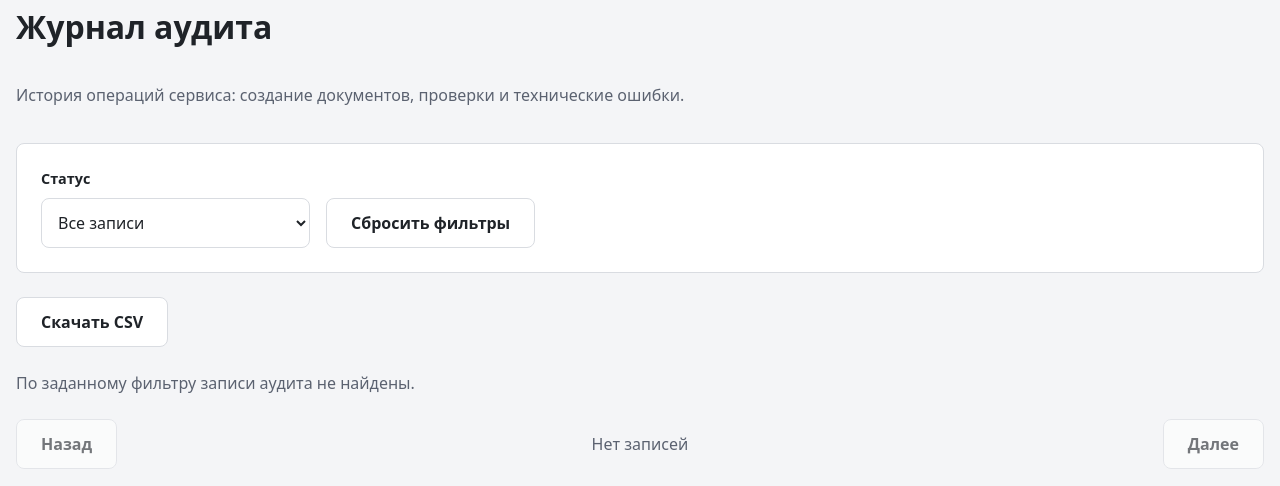
Scenario: AuditJournalPage — экспорт CSV › двойной клик не запускает два экспорт-запроса
Check: the text "По заданному фильтру записи аудита не найдены." is shown, box [16,372,415,394]
What coordinates should you click on to do the following:
click the button "Скачать CSV"
I would click on:
 (92, 322)
Its box is [16,297,168,347].
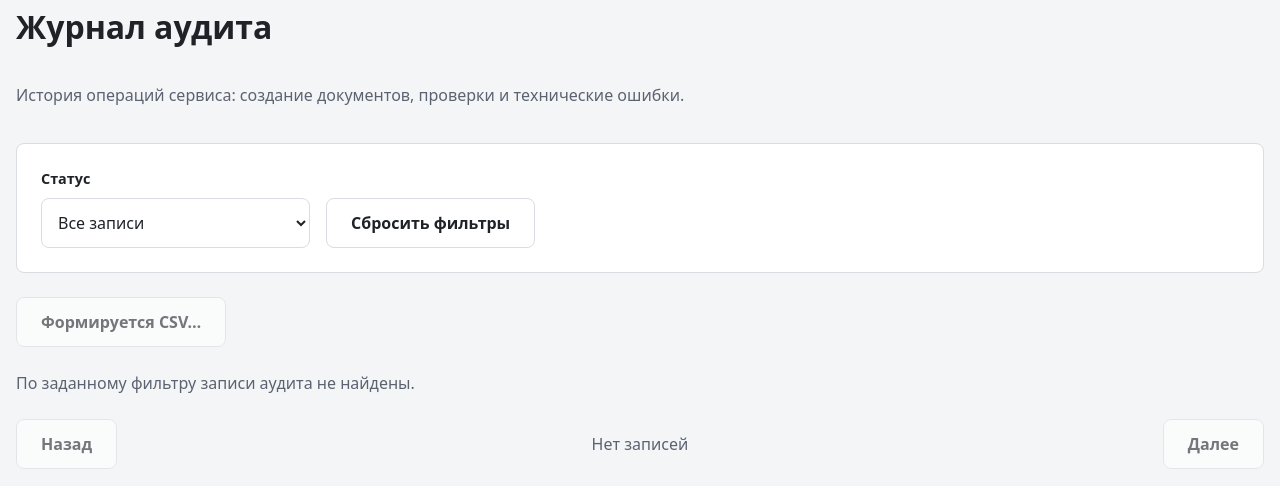
What coordinates should you click on to do the following:
click the button named "Скачать CSV"
I would click on:
 (121, 322)
Its box is [16,297,226,347].
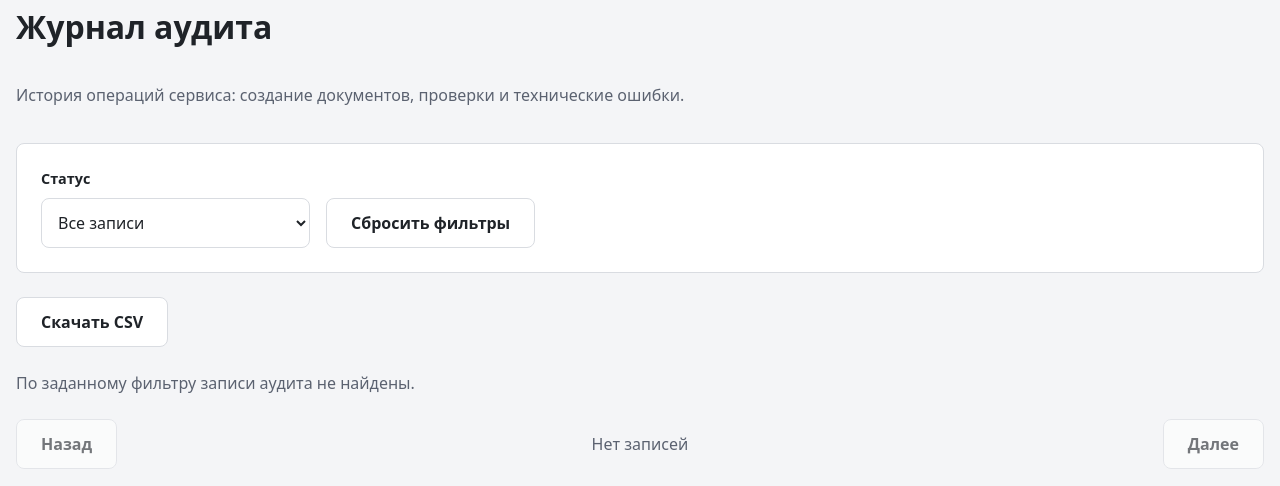
Check: the button "Скачать CSV" is shown, box [16,297,168,347]
